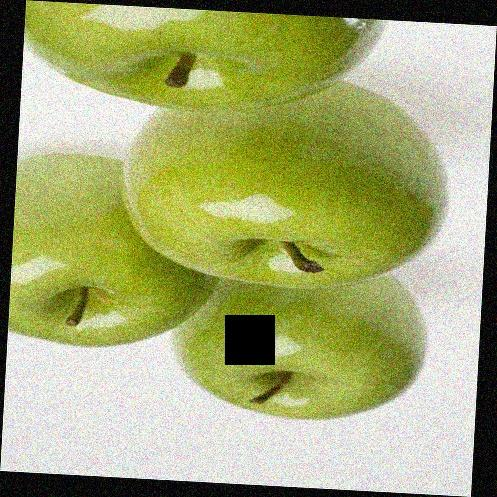green apple: (112, 73, 451, 288), (12, 153, 220, 352), (23, 10, 395, 113), (173, 277, 430, 423)
